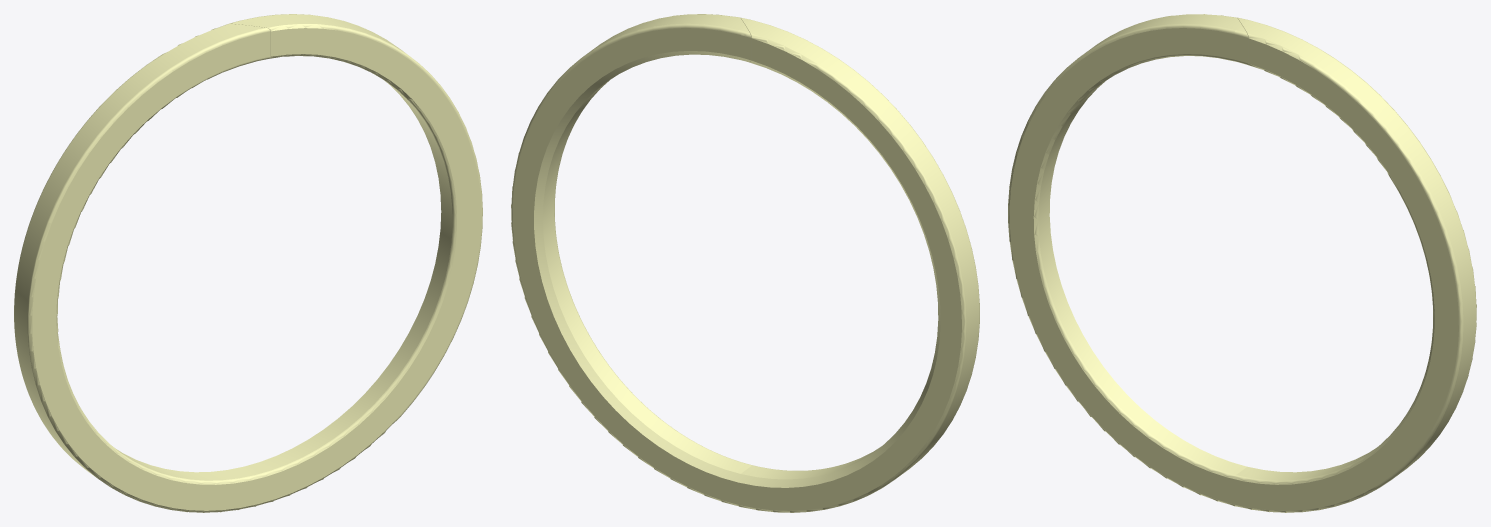
File: 463128_BACKUP RING.fbx
3 renders of one model, left to right at view 1: azimuth 30°, elevation 25°; view 2: azimuth 150°, elevation 25°; view 3: azimuth 330°, elevation 25°, orthographic.
Parts seen in each view (by area): view 1: meshes[0]; view 2: meshes[0]; view 3: meshes[0].
Part boxes in pixels (x1,y1,x2,y2): meshes[0]: (14,14,482,512); meshes[0]: (511,14,979,512); meshes[0]: (1008,14,1476,512).
Size of the model in its own units: 16 by 16 by 1.
